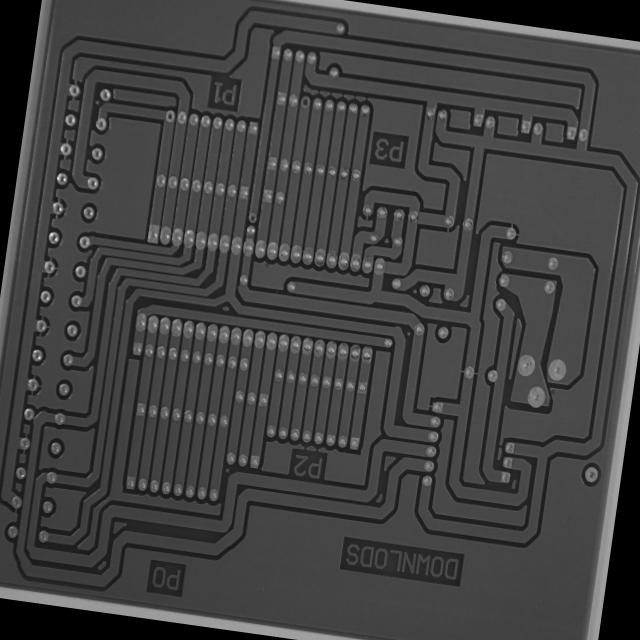missing_hole: (299, 92, 312, 110), (165, 108, 178, 124), (248, 208, 258, 225)
